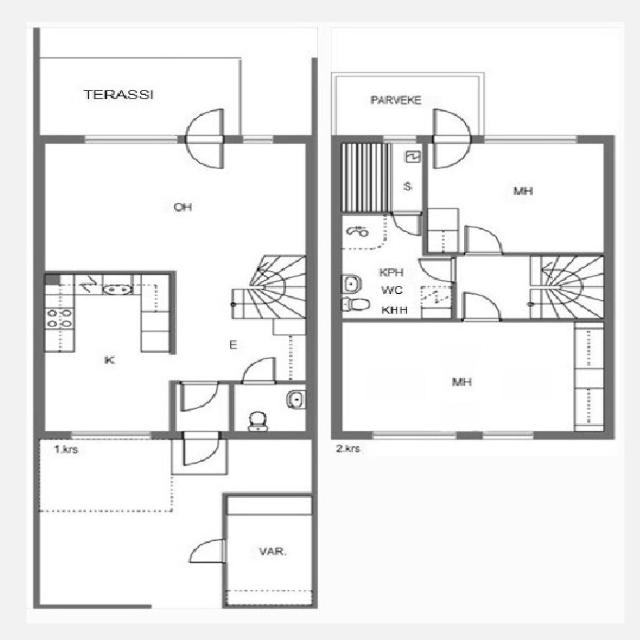door: (180, 107, 230, 172), (425, 106, 474, 172), (175, 427, 223, 470), (171, 376, 220, 415), (178, 534, 231, 569), (458, 222, 508, 258), (458, 288, 505, 324), (235, 352, 282, 387), (386, 208, 426, 239), (414, 255, 458, 283)
window: (478, 130, 584, 149), (60, 427, 160, 446), (360, 426, 464, 444), (75, 131, 184, 148), (472, 428, 542, 443), (236, 131, 280, 148), (378, 132, 419, 145)
zone: (37, 141, 312, 274), (31, 433, 212, 611), (326, 320, 602, 436), (37, 272, 175, 434), (425, 139, 609, 255), (332, 214, 456, 321), (224, 493, 314, 609), (330, 137, 428, 215), (230, 382, 310, 435)
